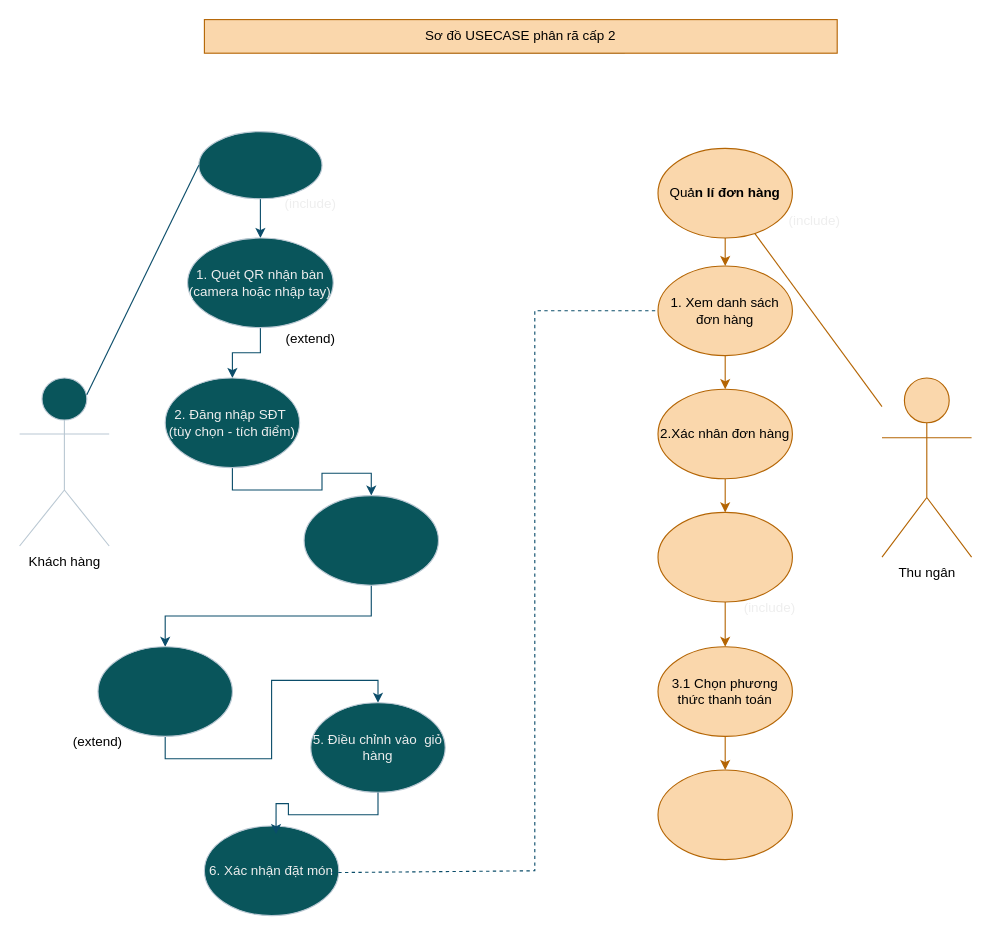
Image size: 991x935. Some labels were removed from this diagram. The shapes that lost their labels are listed below. From the top down, each one's centre as x and y in pixels, then its label:
At [260,164]: "Đặt hàng".
At [370,539]: "3. Xác thực đơn theo danh mục".
At [724,556]: "3. Thanh toán đơn hàng".
At [164,691]: "4. Theo món vào giỏ hàng".
At [724,814]: "4. Chuyển đơn cho cà phê".
